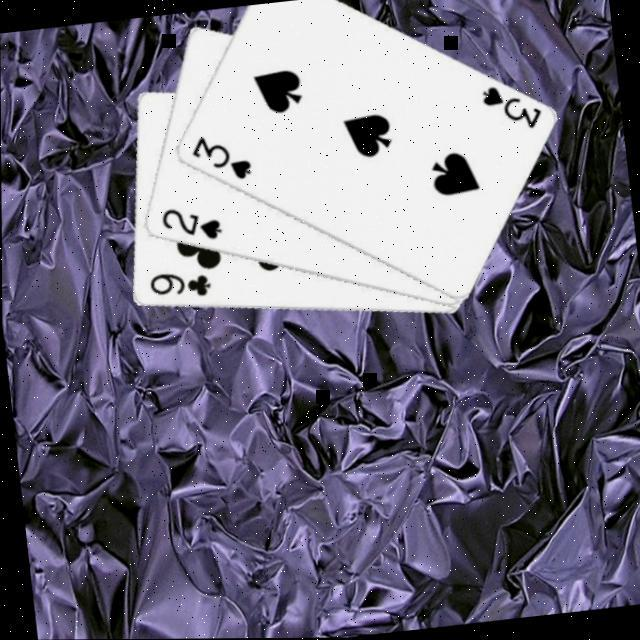2S: (157, 201, 226, 250)
3S: (476, 78, 546, 138), (187, 128, 255, 188)
9C: (145, 266, 215, 306)
